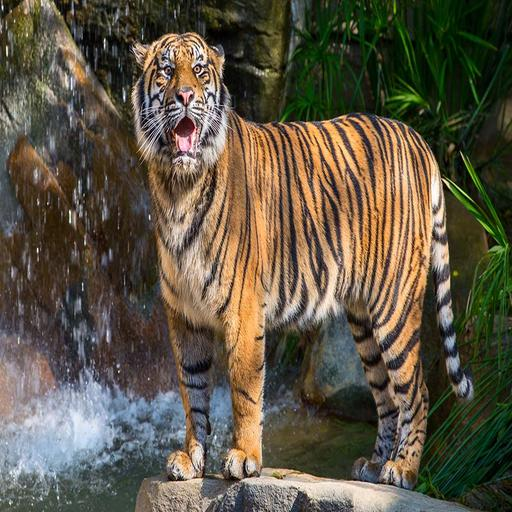Tiger: (129, 26, 486, 499)
